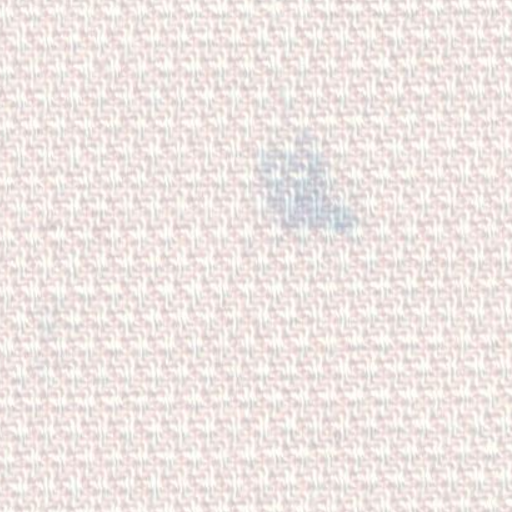WuZi: (220, 122, 397, 260)
